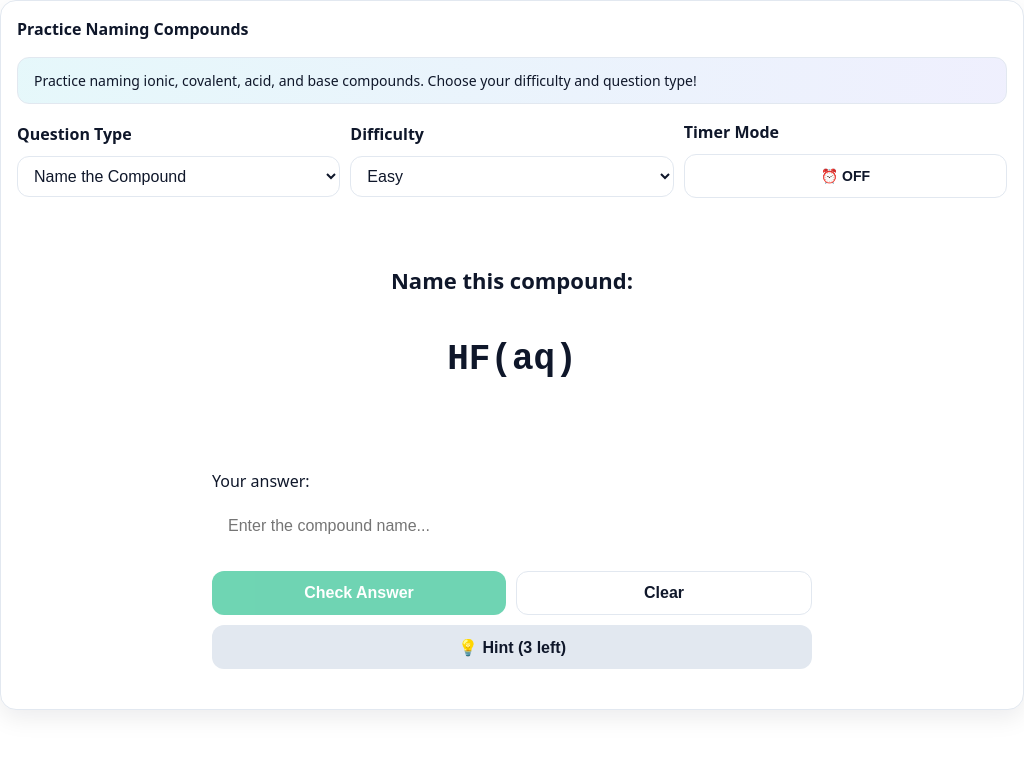
Test: Practice Component › toggles timer mode
Click the button "⏰ OFF": (845, 176) x1=684 y1=154 x2=1007 y2=198
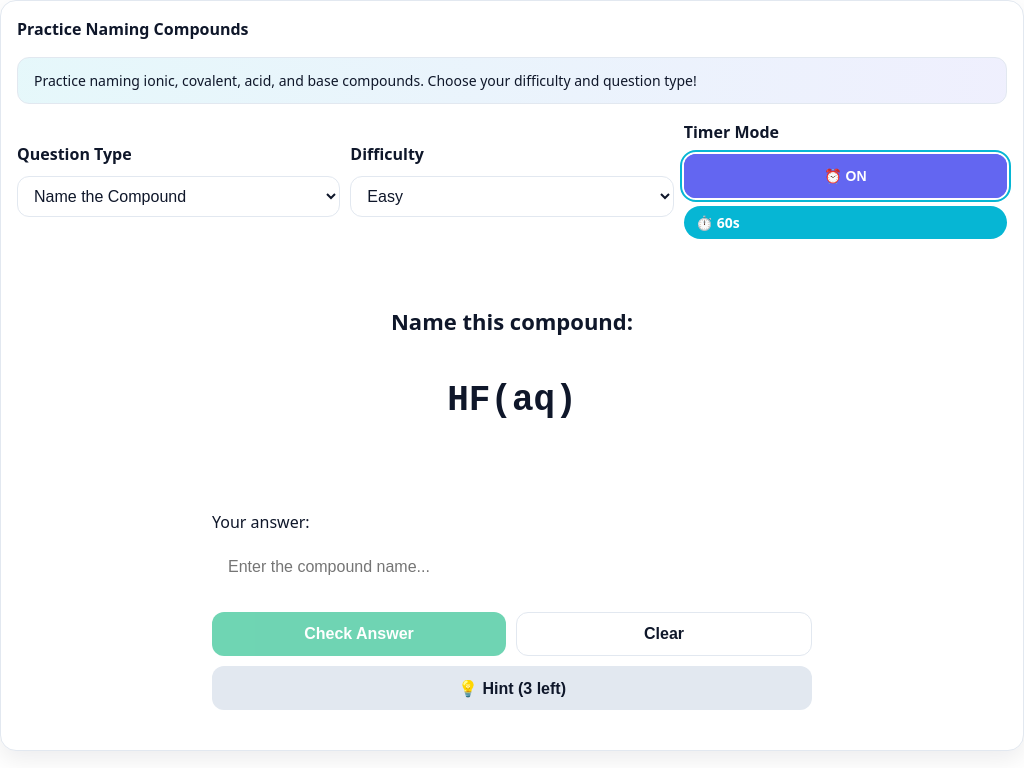
Now the button "⏰ ON" is shown, box x1=684 y1=154 x2=1007 y2=198
